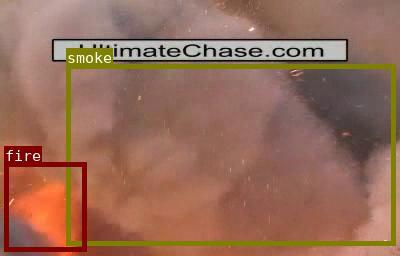fire: (4, 161, 85, 251)
smoke: (66, 63, 394, 245)
